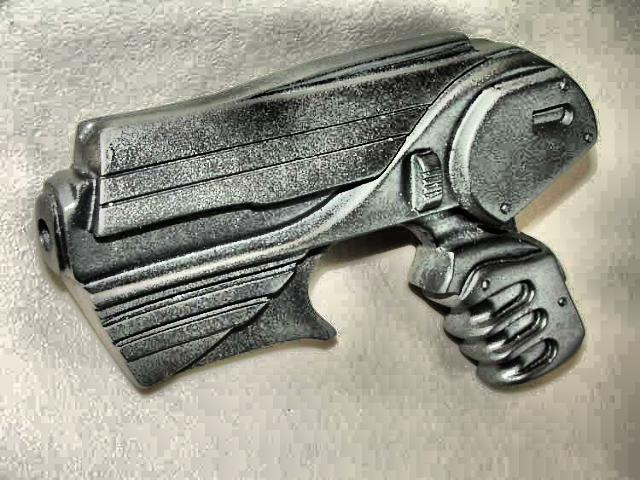pistol: (31, 27, 598, 397)
